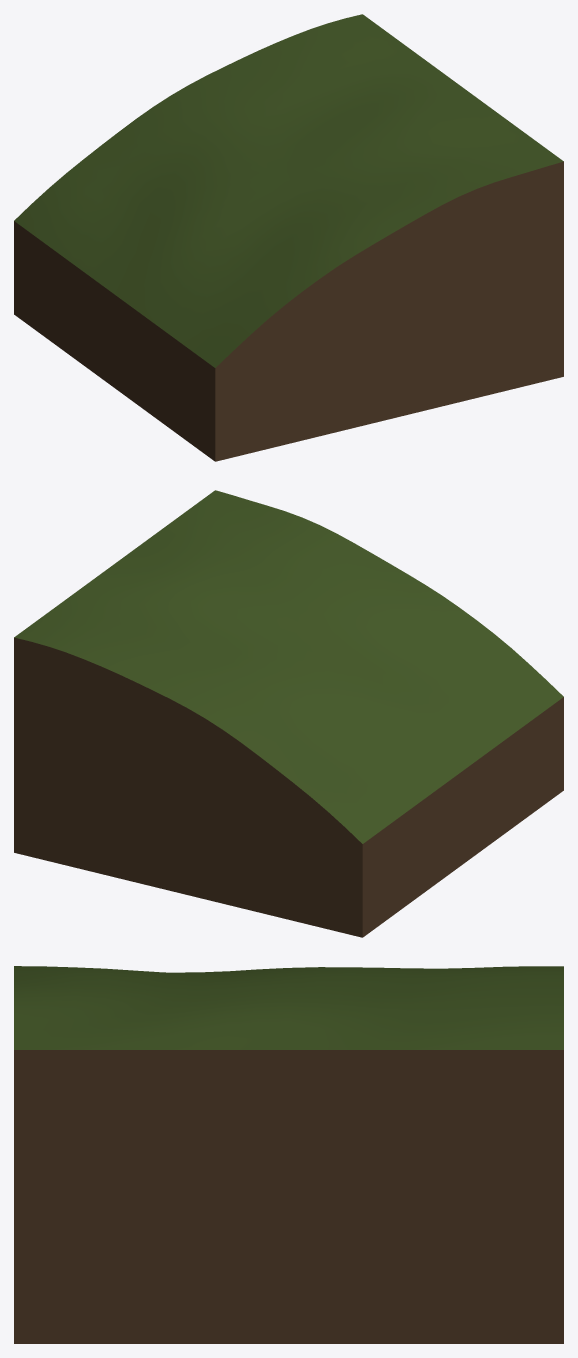
3 renders of one model, top to bottom at view 1: azimuth 30°, elevation 25°; view 2: azimuth 150°, elevation 25°; view 3: azimuth 270°, elevation 25°, orthographic. The views are drawn at different scales.
Visible parts, largest first — view 1: e3go; view 2: e3go; view 3: e3go.
Part boxes in pixels (x1,y1,x2,y2): e3go: (14, 14, 563, 461); e3go: (14, 490, 563, 937); e3go: (14, 966, 563, 1343).
Bounding box in the file's own units: 9 × 5.32 × 9.
